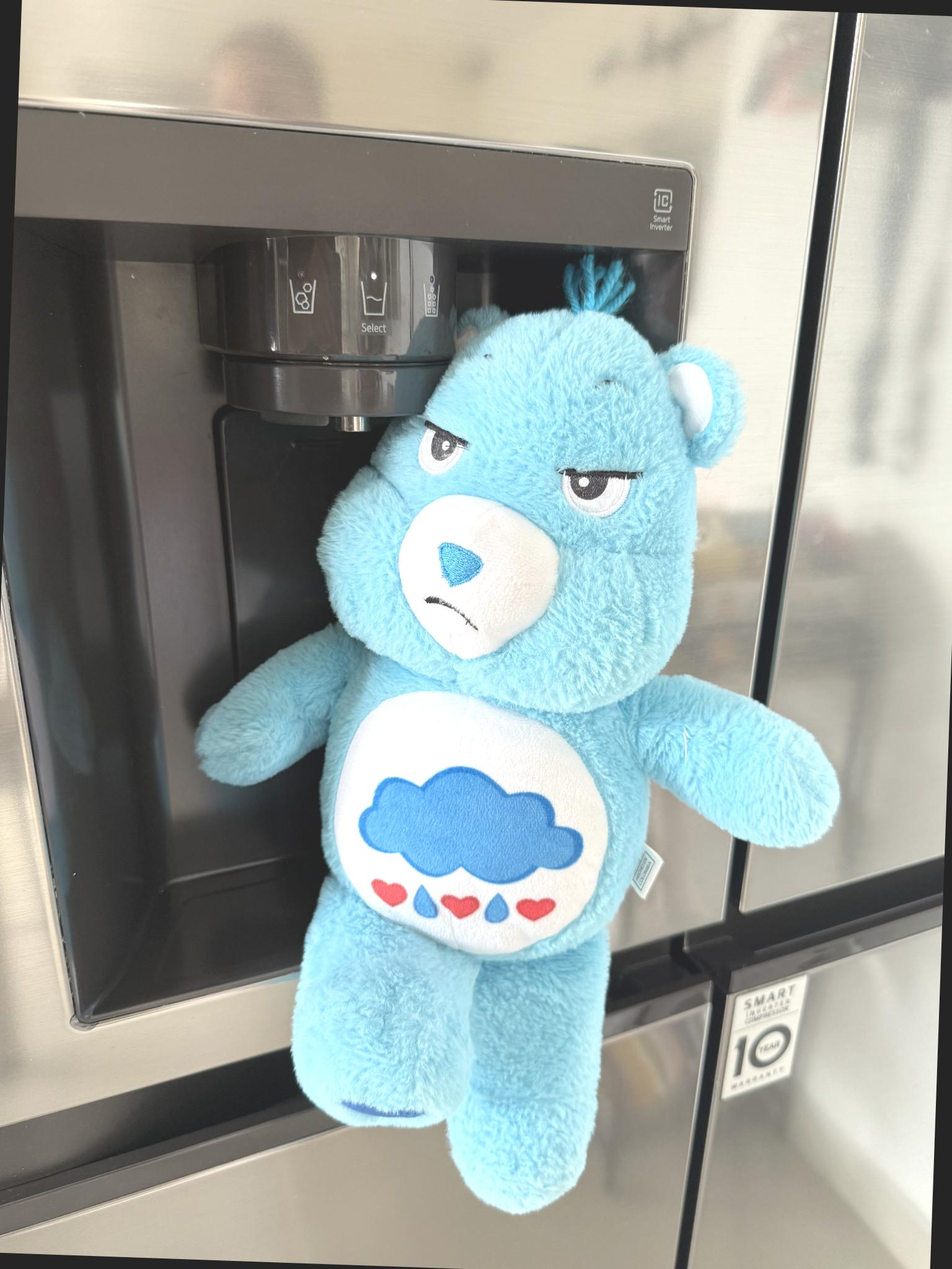peluche_Juan Jose: (284, 321, 711, 1174)
